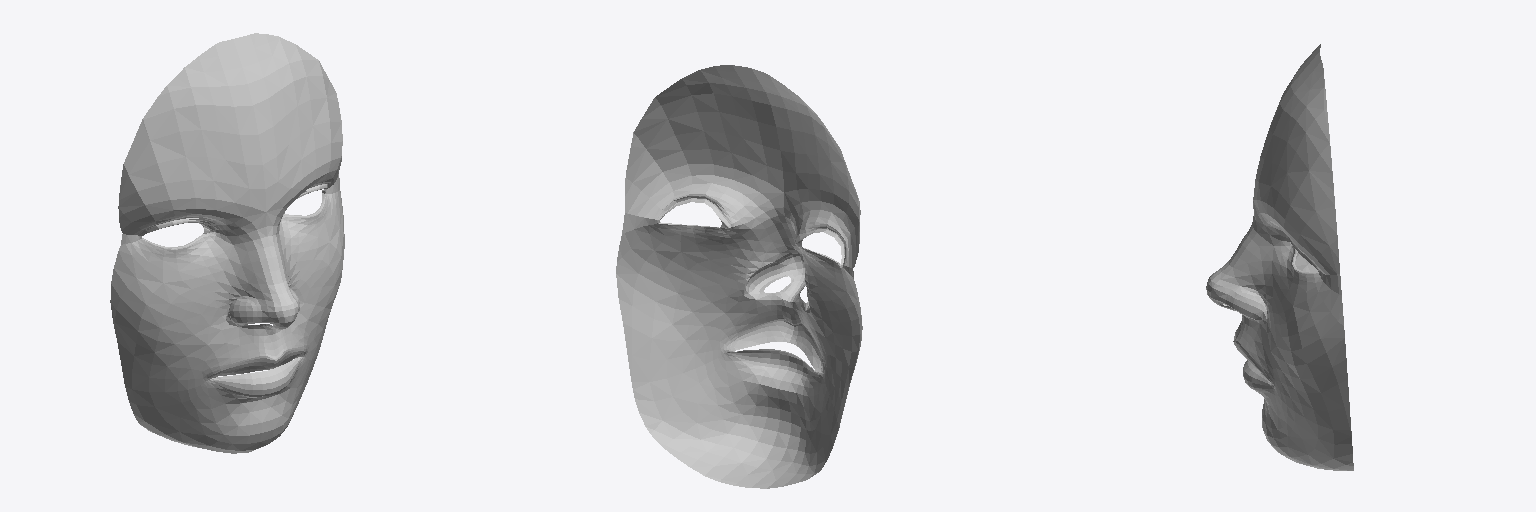
3 views of the same model, side by side, from view 1: azimuth 30°, elevation 25°; view 2: azimuth 150°, elevation 25°; view 3: azimuth 270°, elevation 25° (orthographic).
Parts seen in each view (by area): view 1: Faith_face; view 2: Faith_face; view 3: Faith_face.
Boxes of the visible parts, <box> form: Faith_face: <box>110,33,344,453</box>; Faith_face: <box>616,65,862,488</box>; Faith_face: <box>1206,44,1353,470</box>.
Bounding box in the file's own units: 0.5549 × 0.9025 × 0.2967.